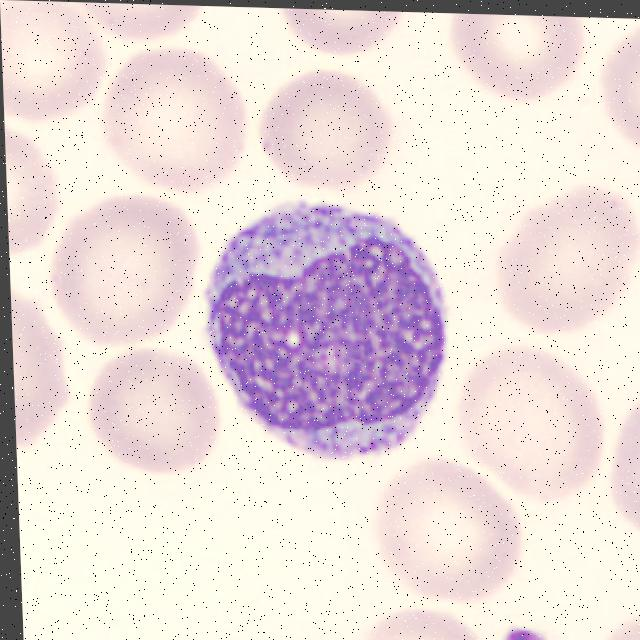monocyte: (206, 205, 482, 496)
platelets: (493, 606, 559, 640)
rbc: (487, 175, 640, 338), (467, 348, 618, 503), (374, 447, 524, 603), (94, 43, 245, 197), (52, 198, 199, 348), (256, 62, 399, 192), (93, 351, 229, 487), (0, 0, 108, 137), (443, 13, 595, 107), (55, 2, 225, 73), (10, 282, 72, 464), (4, 114, 69, 274), (587, 36, 640, 155), (341, 600, 498, 640), (599, 398, 640, 533), (596, 591, 640, 640)
